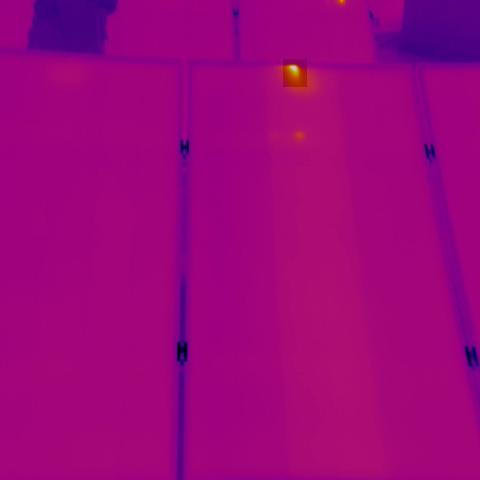fault: (284, 59, 308, 87)
